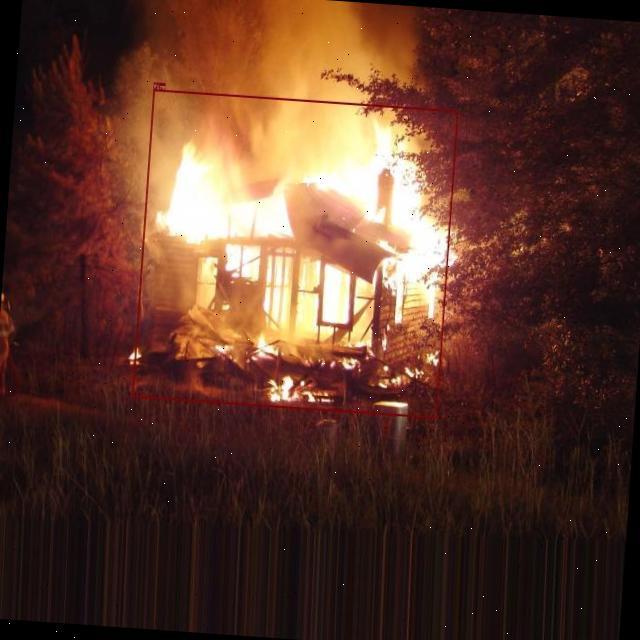fire: (131, 89, 458, 418)
